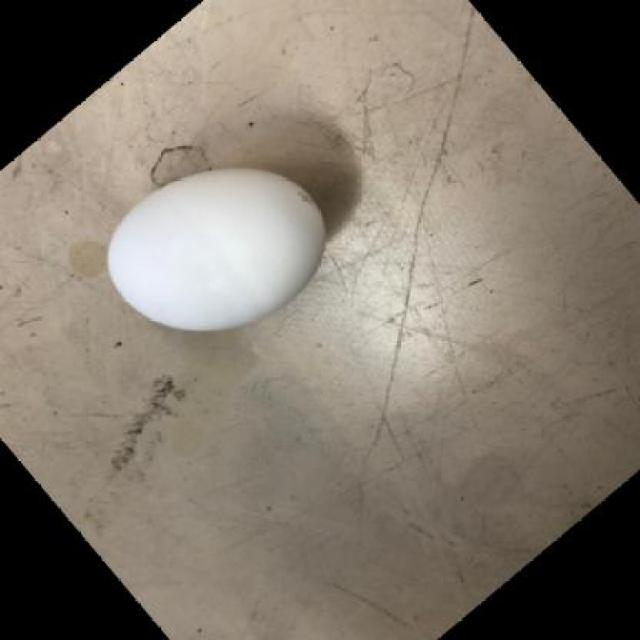egg: (100, 164, 332, 337)
